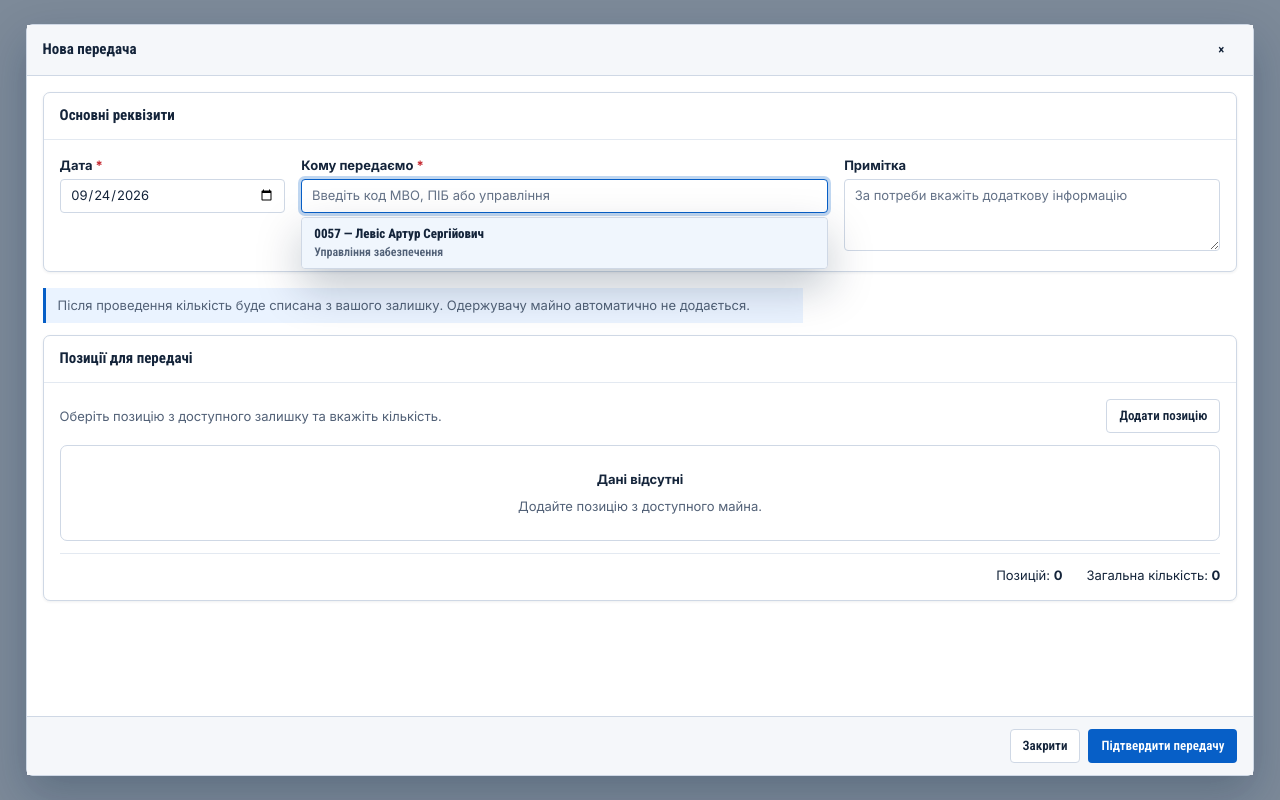
Test: new transfer modal focus lifecycle › keeps the quantity input mounted and focused while totals and validation update
The image size is (1280, 800).
Click the button "Додати позицію" at (1163, 416), box [1106,399,1220,433]
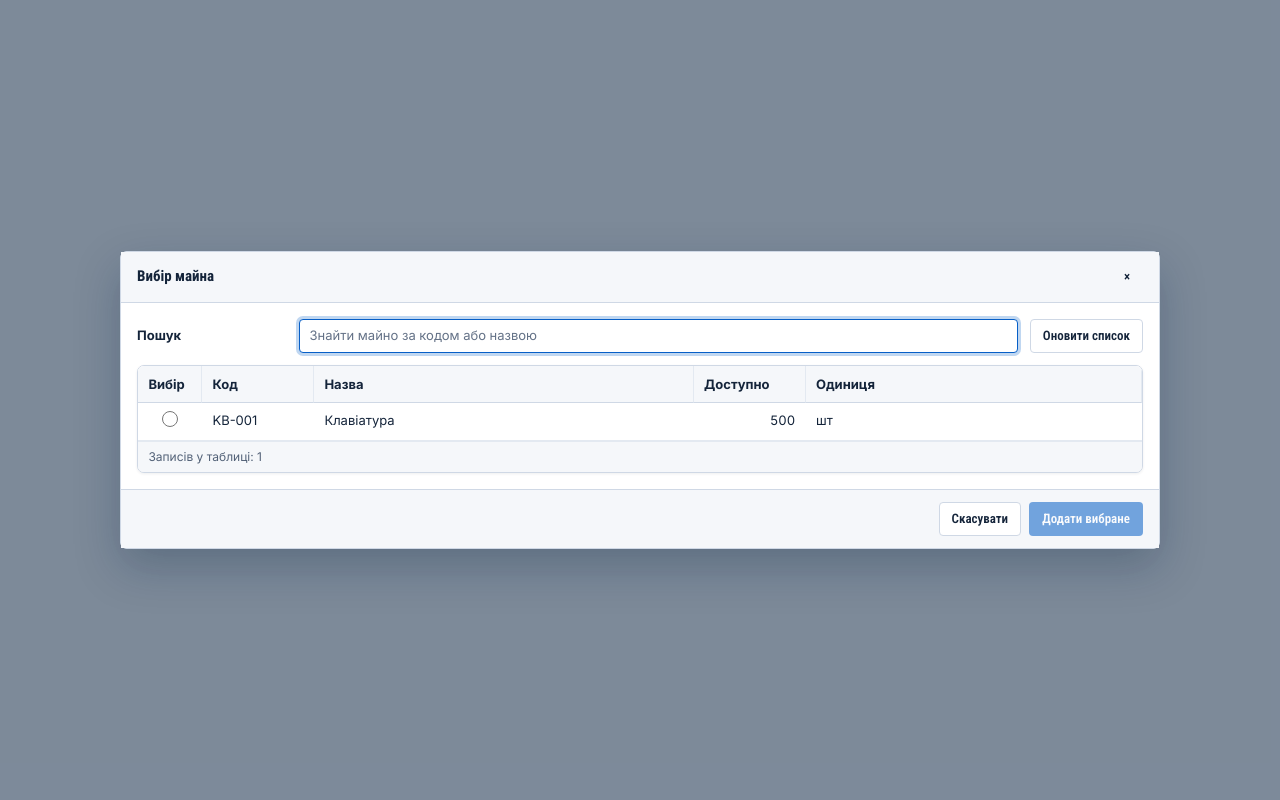
Click the radio button named "Вибрати Клавіатура" at (170, 419), box [162,411,178,427]
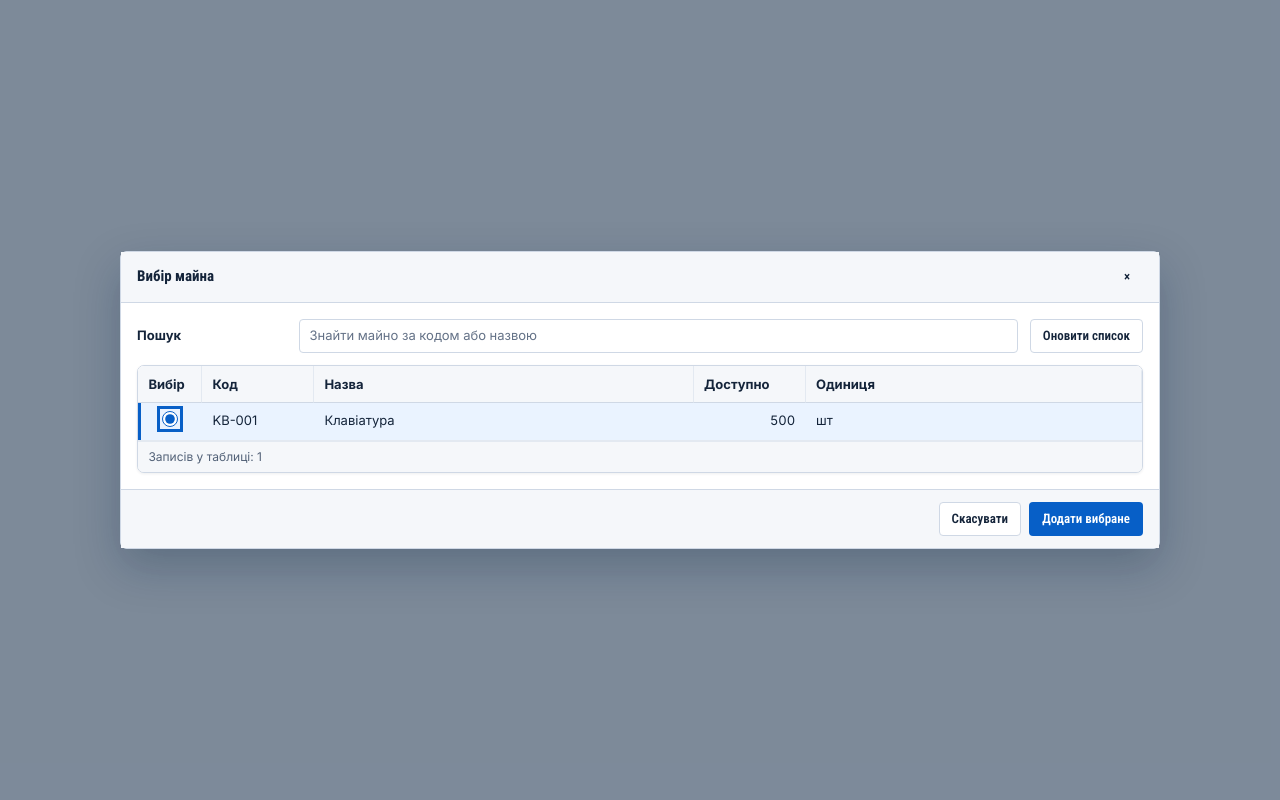
Click the button "Додати вибране" at (1086, 519), box [1029,502,1143,536]
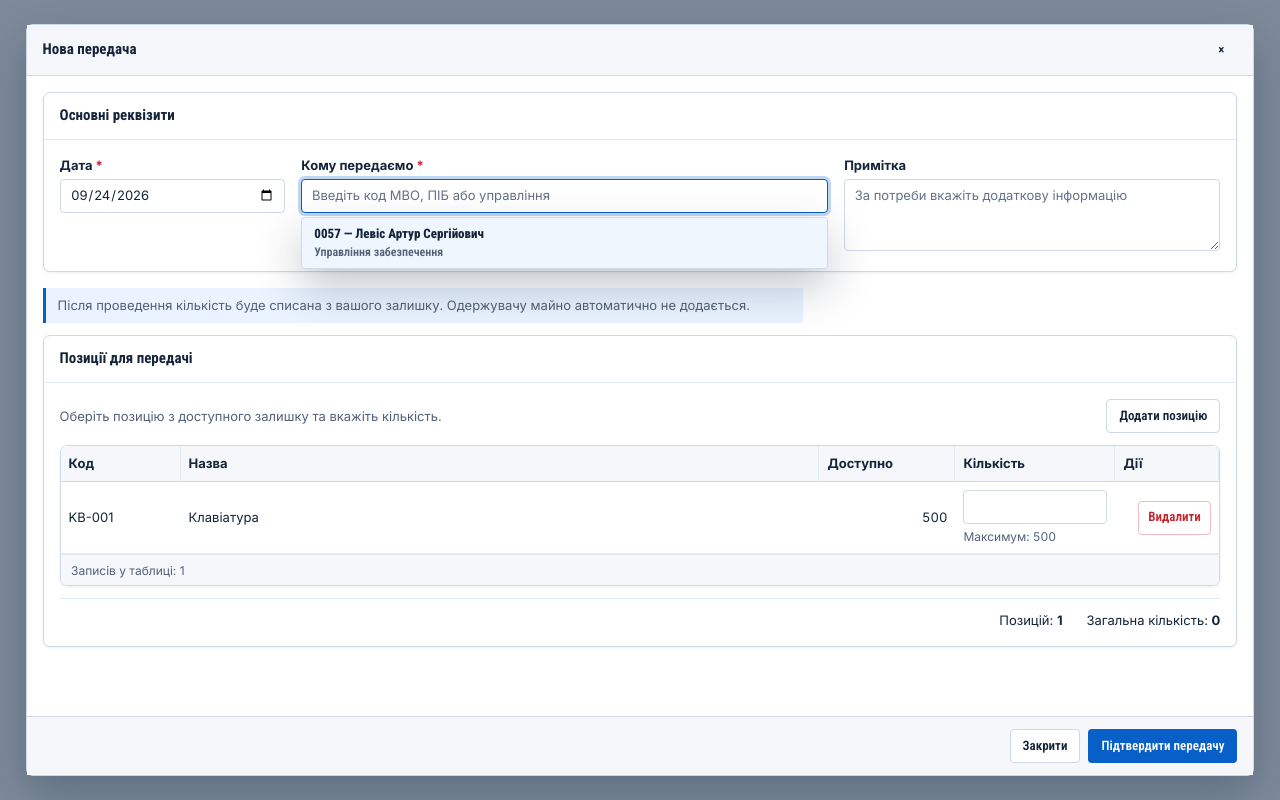
Type "125" into the number field named "Кількість рядка 1" at (1035, 507), box [963,490,1107,524]
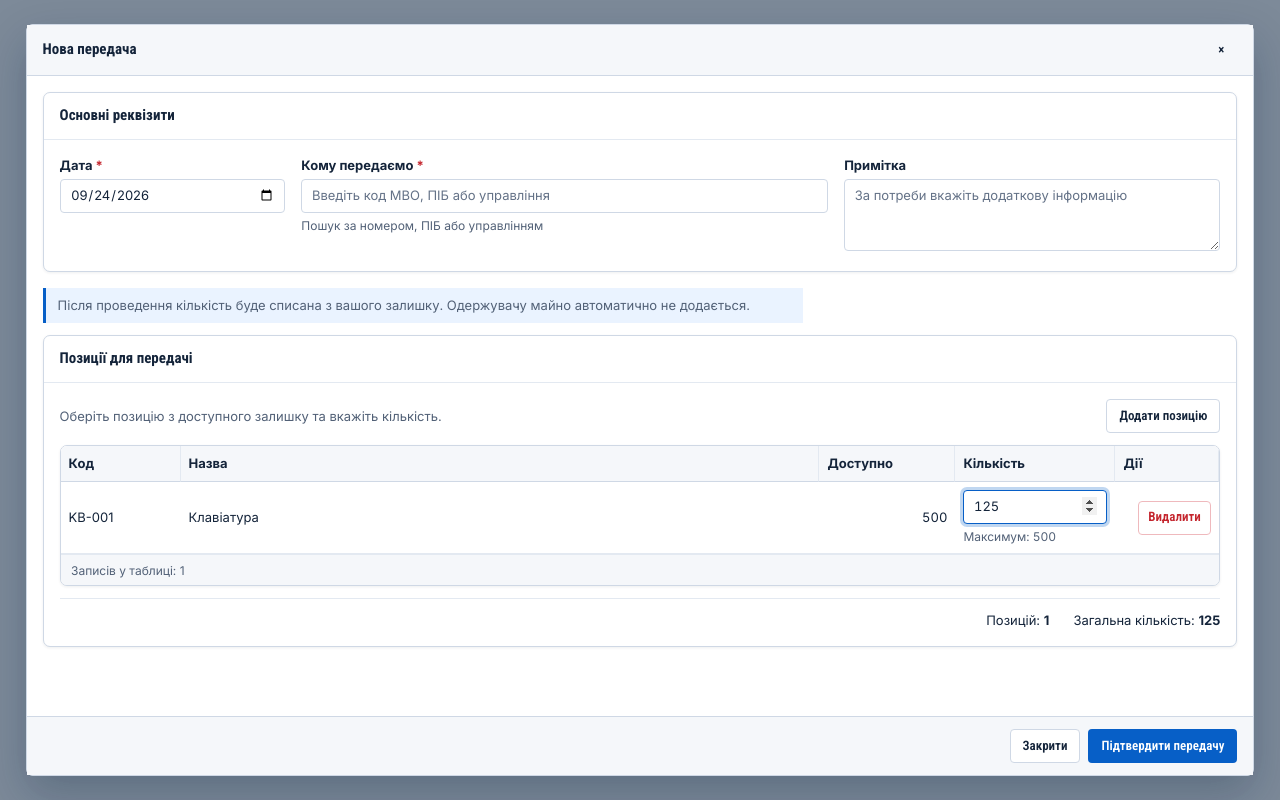
Expected: the text "125" is shown, [1198,612,1220,628]
